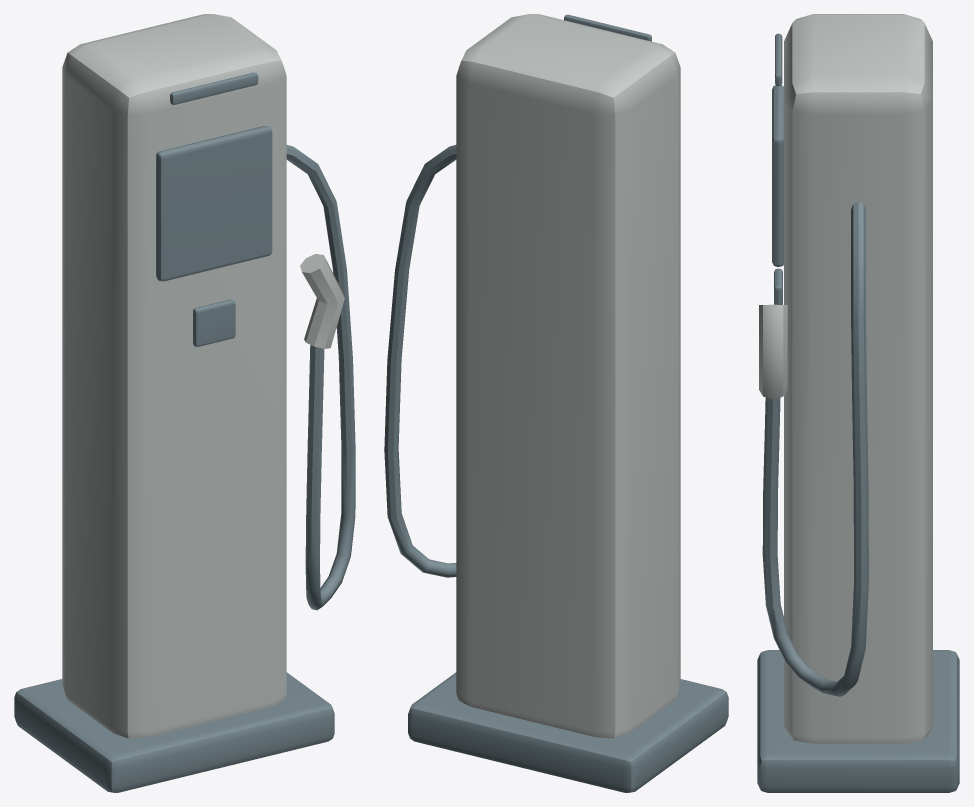
Rendered from electric-car-charger.glb.
3 renders of one model, left to right at view 1: azimuth 30°, elevation 25°; view 2: azimuth 150°, elevation 25°; view 3: azimuth 270°, elevation 25°, orthographic.
Visible parts, largest first — view 1: charging_column, base, display, cable, charging_plug, card_reader, status_strip; view 2: charging_column, base, cable, status_strip; view 3: charging_column, base, cable, charging_plug, display, status_strip.
Part boxes in pixels (box(x1,y1,x2,y2)): charging_column: box(62, 14, 286, 738); base: box(14, 672, 334, 792); display: box(156, 126, 272, 281); cable: box(286, 145, 355, 610); charging_plug: box(300, 254, 344, 348); card_reader: box(193, 299, 235, 346); status_strip: box(170, 72, 258, 104); charging_column: box(456, 14, 680, 738); base: box(408, 672, 728, 792); cable: box(384, 145, 456, 577); status_strip: box(564, 14, 651, 41); charging_column: box(784, 14, 932, 743); base: box(757, 650, 959, 792); cable: box(762, 202, 868, 696); charging_plug: box(759, 304, 787, 399); display: box(772, 85, 783, 266); status_strip: box(775, 33, 782, 85).
Bounding box in the file's own units: 0.6476 × 1.44 × 0.38.
